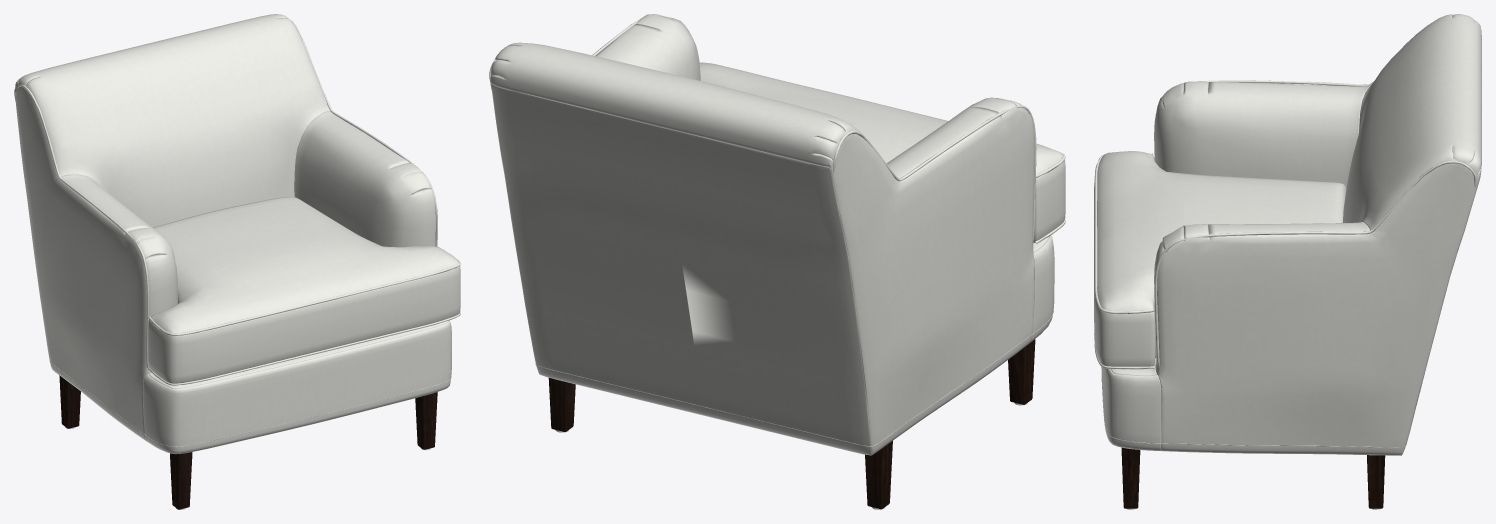
File: rocksjoen_armchair_blekinge_white.glb
The picture shows the model from 3 angles, left to right: view 1: azimuth 30°, elevation 25°; view 2: azimuth 150°, elevation 25°; view 3: azimuth 270°, elevation 25°; orthographic projection. The views are drawn at different scales.
Parts seen in each view (by area): view 1: Mesh_0; view 2: Mesh_0; view 3: Mesh_0.
Part boxes in pixels (x1=…): Mesh_0: x1=14, y1=14, x2=460, y2=509; Mesh_0: x1=489, y1=14, x2=1065, y2=509; Mesh_0: x1=1094, y1=14, x2=1481, y2=509.
Size of the model in its own units: 0.7597 by 0.7999 by 0.7799.
Materials: 2 (2 with a texture image).
